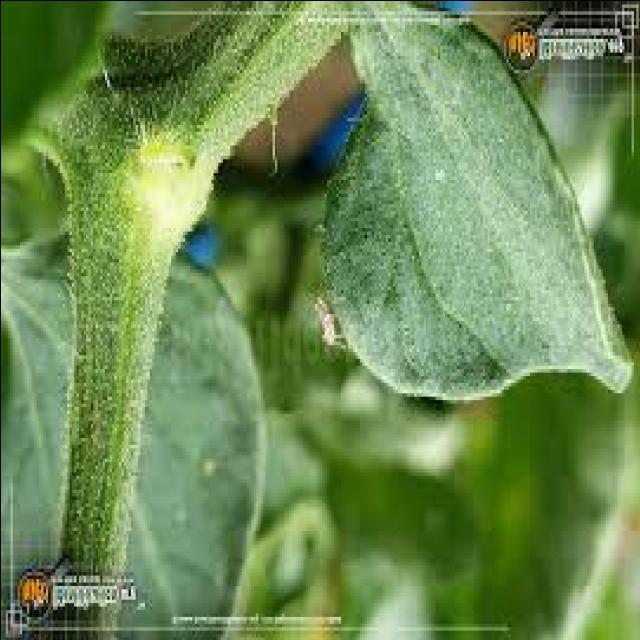aphid: (192, 447, 218, 489)
